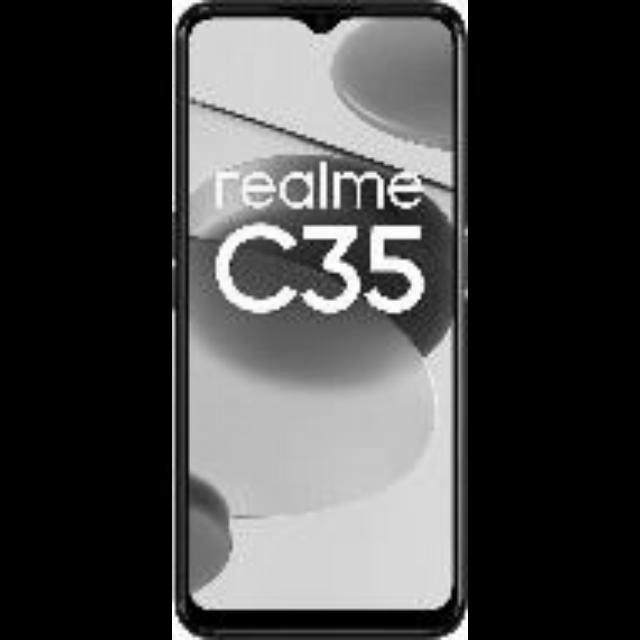fake: (170, 0, 474, 628)
